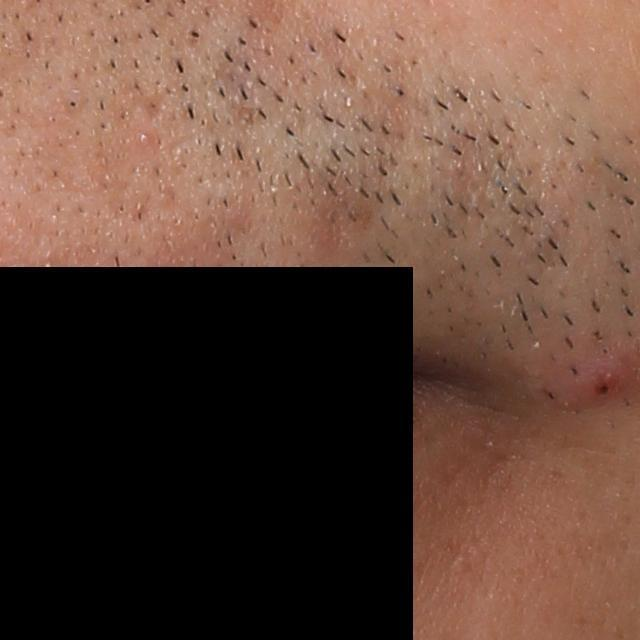papule: (566, 353, 630, 411)
